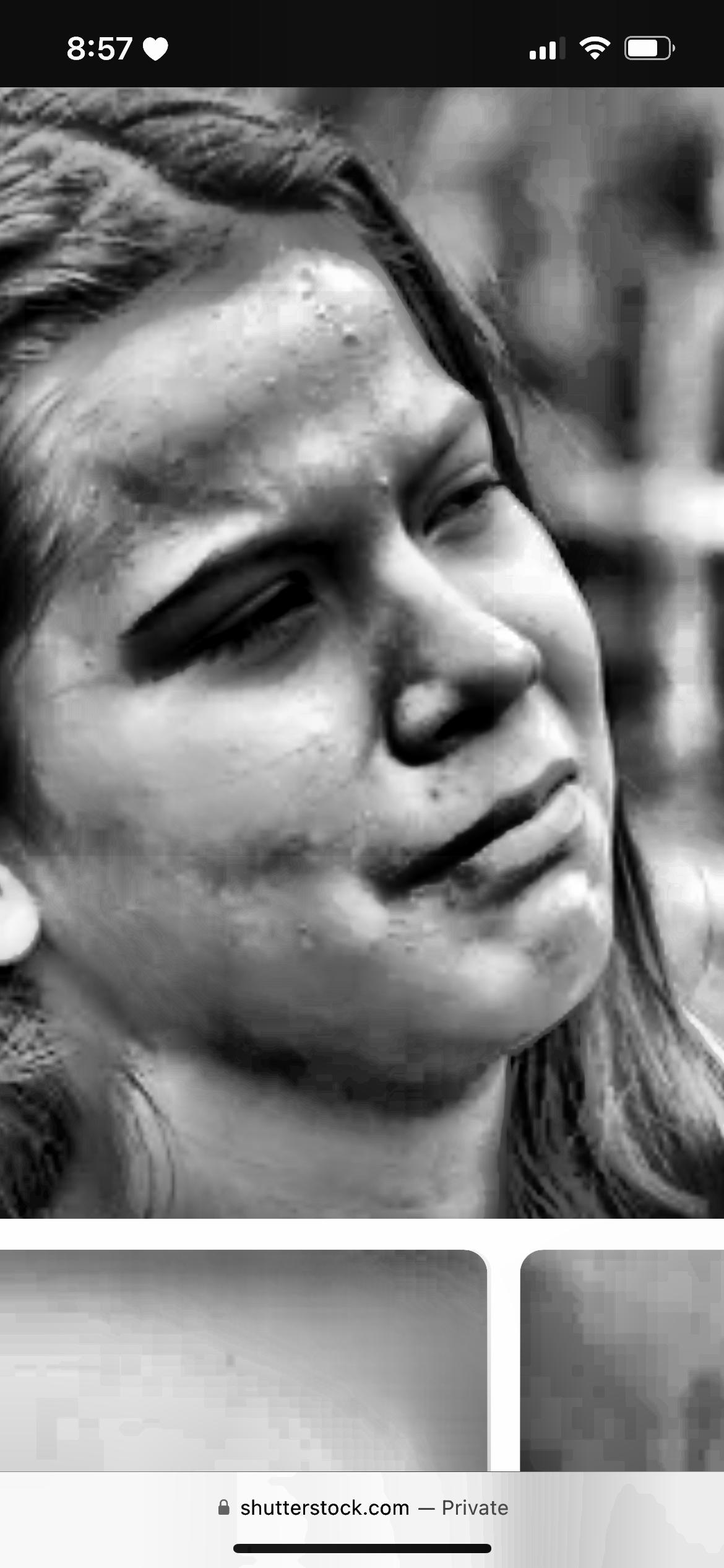sad: (31, 360, 611, 1058)
